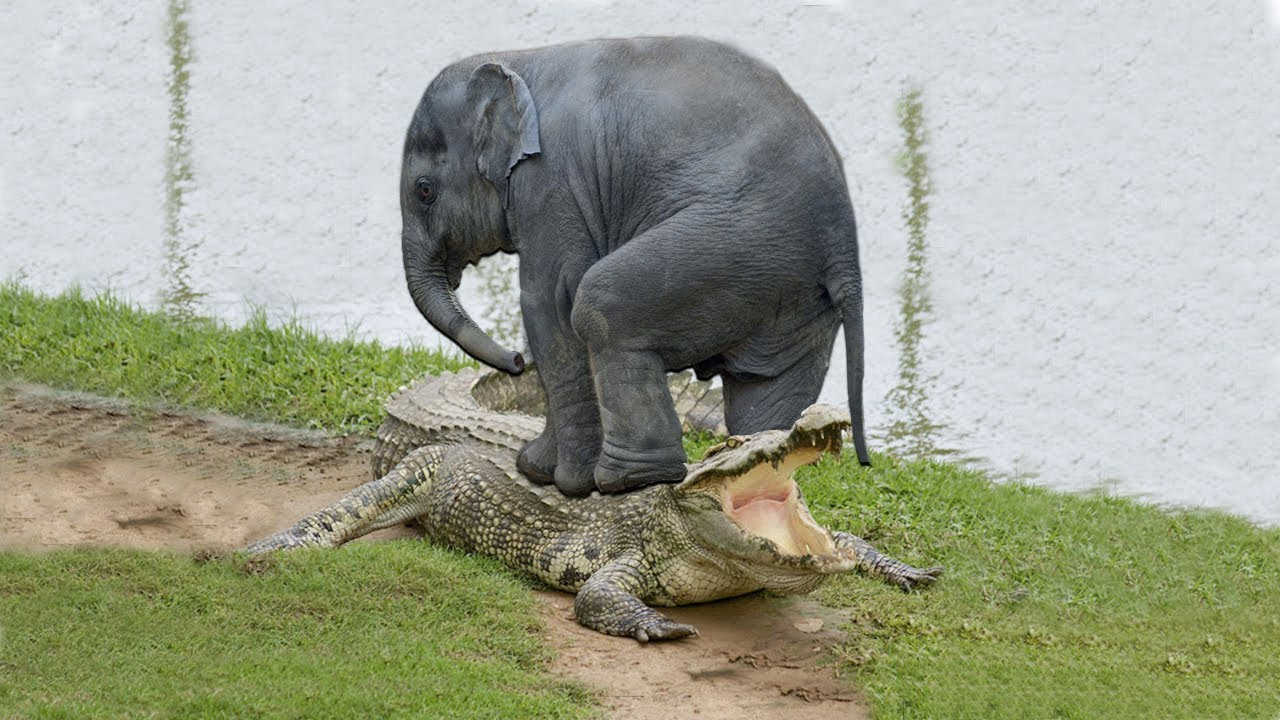Crocodile: (296, 334, 942, 644)
elephant: (396, 42, 884, 480)
